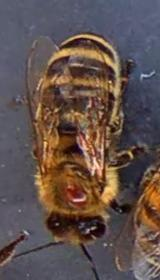varroa_mite: (59, 176, 94, 208)
